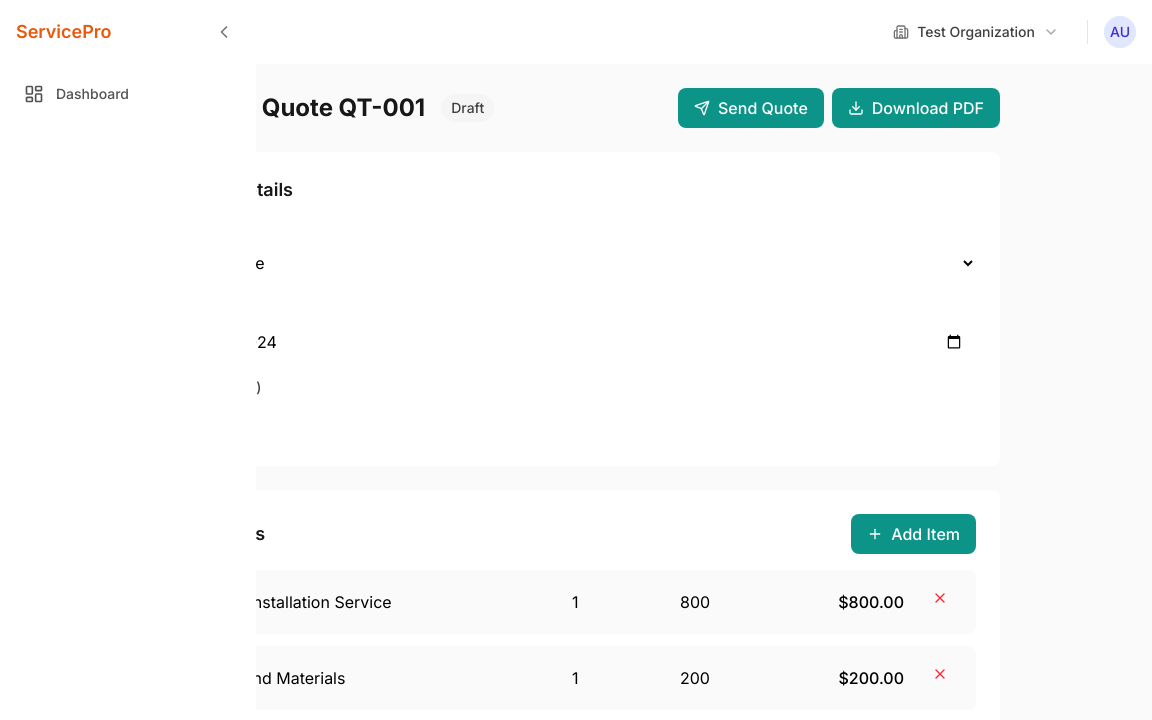
Quote Workflow Integration › Error Handling › should handle send quote error
This screenshot has width=1152, height=720.
Click the button "Send Quote" at x=751, y=108, box 678,88 -> 824,128
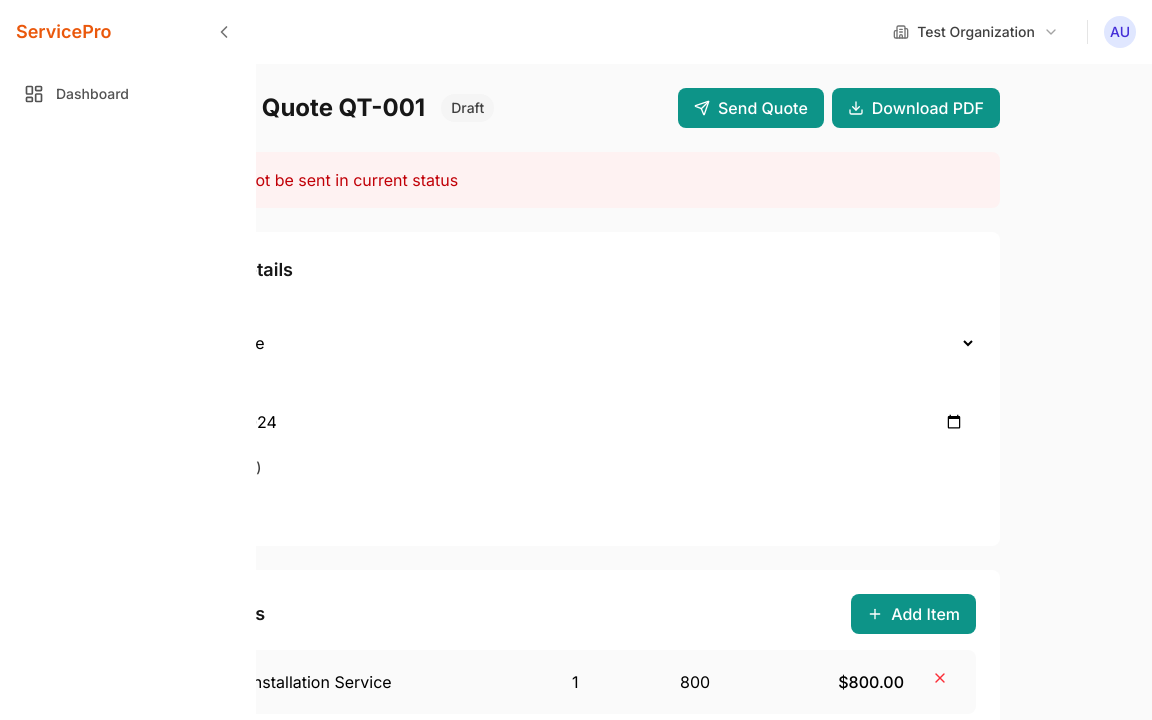
Check: the text "Draft" is shown, box 441,94 -> 494,122
Check: the text "Quote cannot be sent in current status" is shown, box 152,152 -> 1000,208
